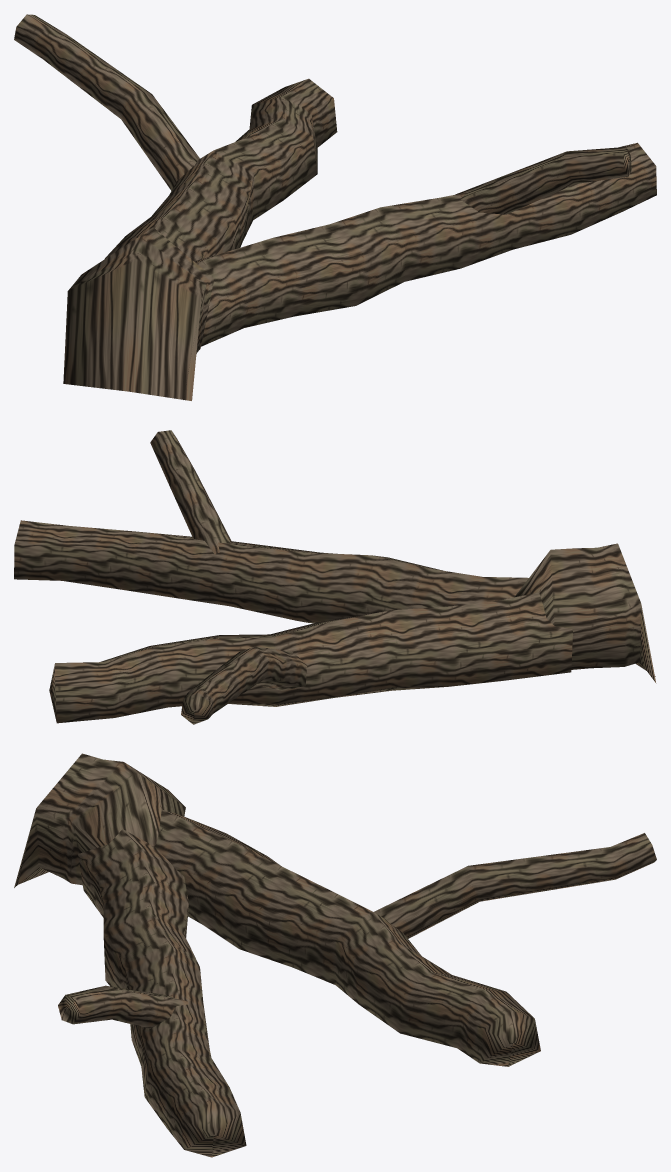
The model's file is fallen-b.lod1.glb.
3 renders of one model, top to bottom at view 1: azimuth 30°, elevation 25°; view 2: azimuth 150°, elevation 25°; view 3: azimuth 270°, elevation 25°, orthographic. The views are drawn at different scales.
Parts seen in each view (by area): view 1: bark; view 2: bark; view 3: bark.
Boxes of the visible parts, x1=… form: bark: x1=14, y1=14, x2=656, y2=400; bark: x1=14, y1=430, x2=656, y2=724; bark: x1=14, y1=753, x2=656, y2=1157.
Size of the model in its own units: 4.84 by 0.926 by 4.22.
1 material, 1 textured.
